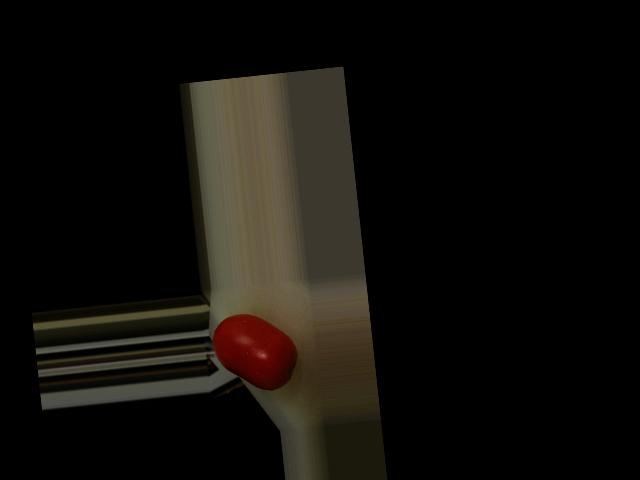tomato: (210, 308, 300, 395)
